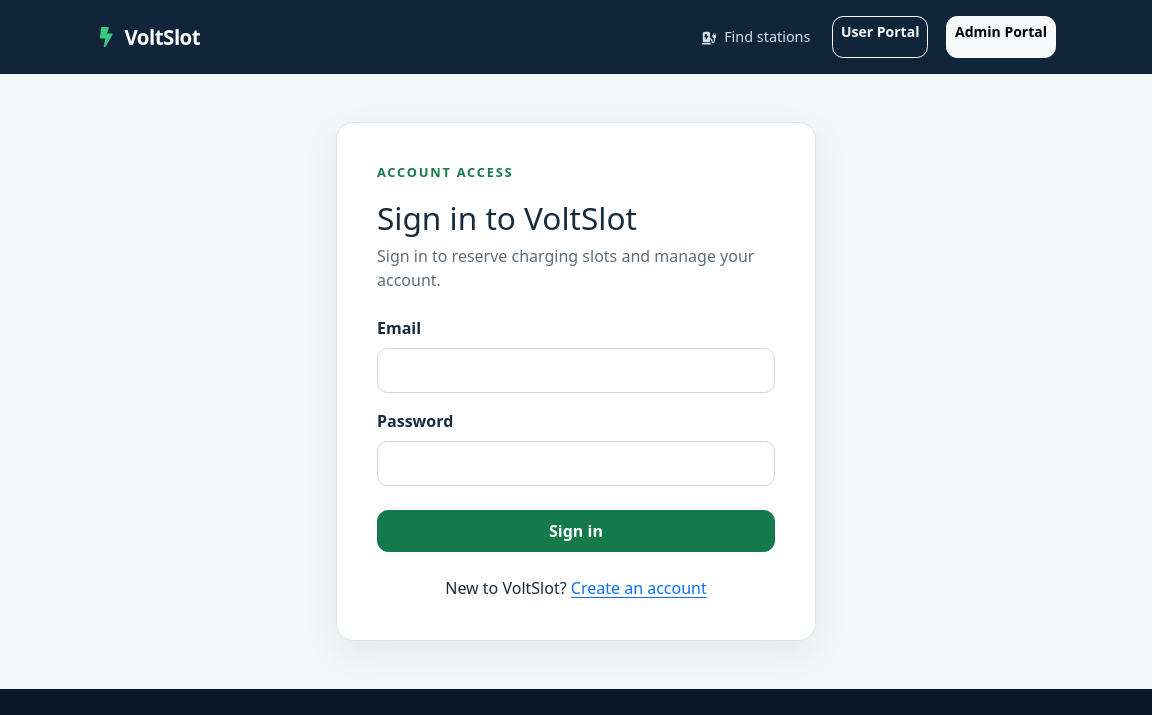
Test: VoltSlot station frontend › rejects an administrator account from the customer login without saving its token
Type "admin@example.com" into the field labelled "Email". click: (576, 371)
box: left=377, top=348, right=775, bottom=393
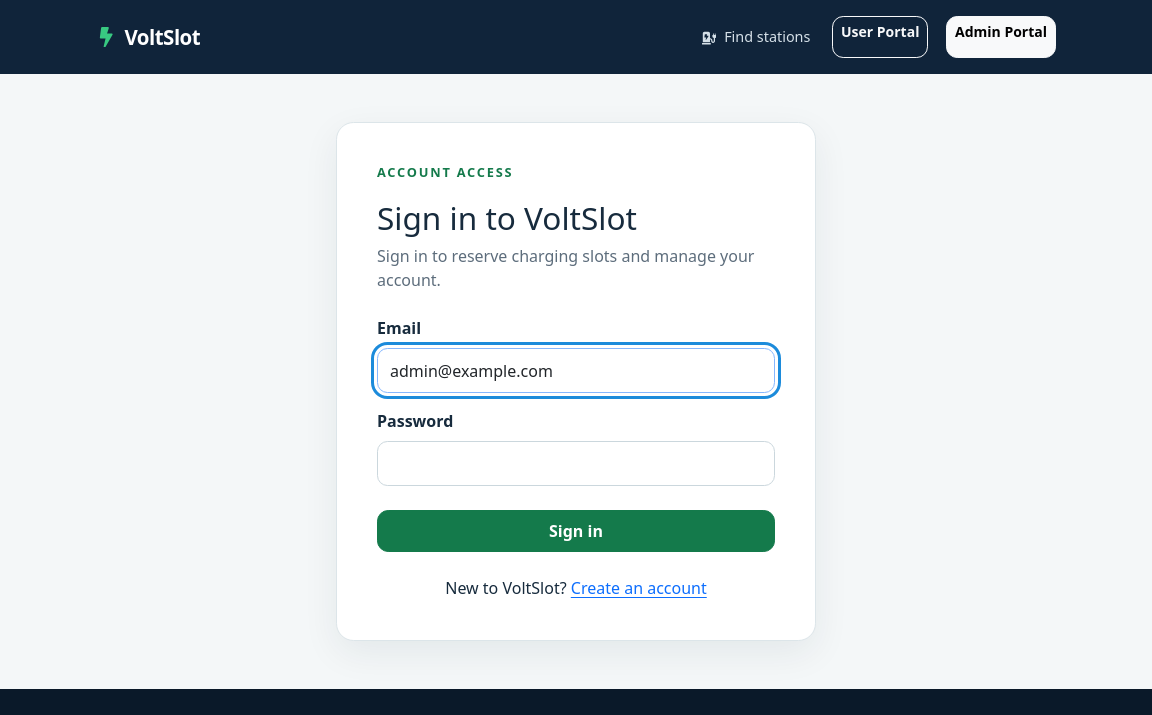
Type "StrongPass123" into the password field labelled "Password". click: (576, 464)
box: left=377, top=441, right=775, bottom=486
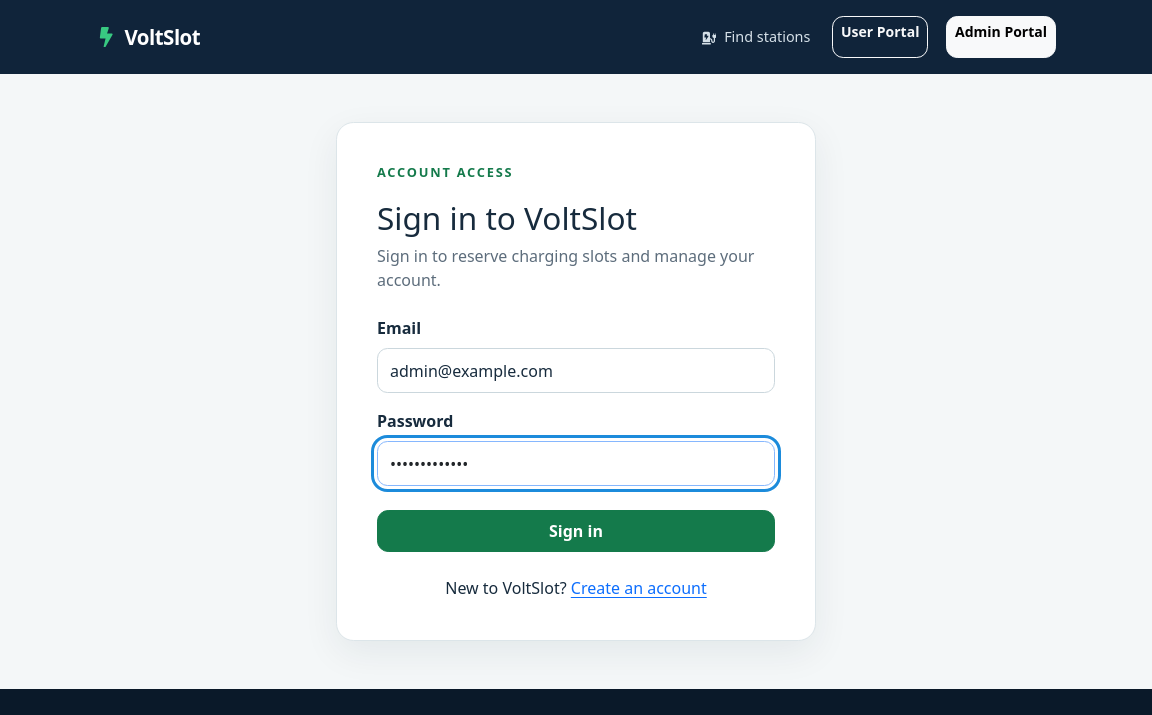
Click the button "Sign in". click: (576, 531)
box: left=377, top=510, right=775, bottom=552
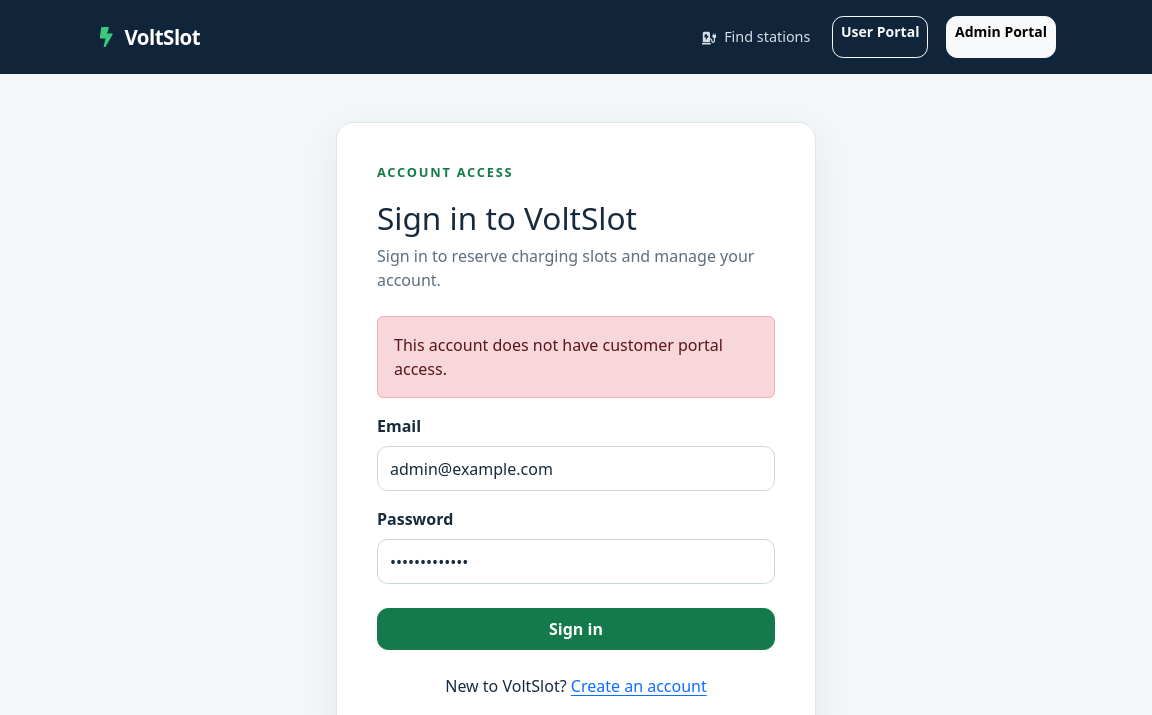
Result: the text "This account does not have customer portal access." is shown at left=394, top=334, right=758, bottom=382
